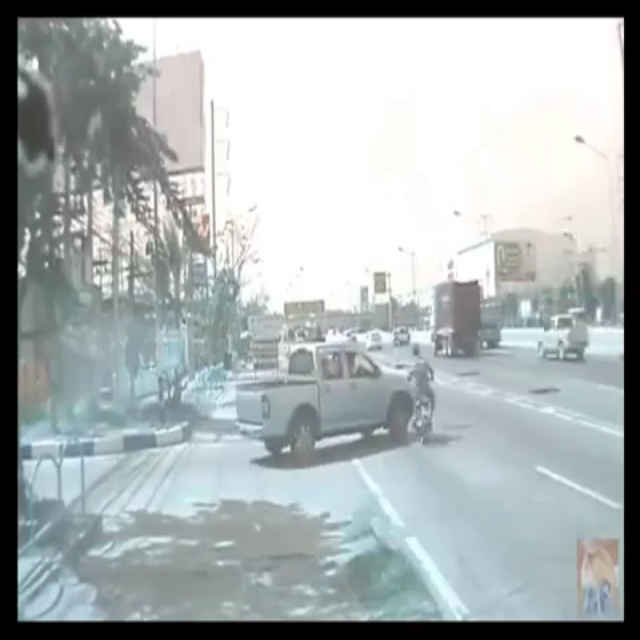acc: (232, 340, 439, 463)
